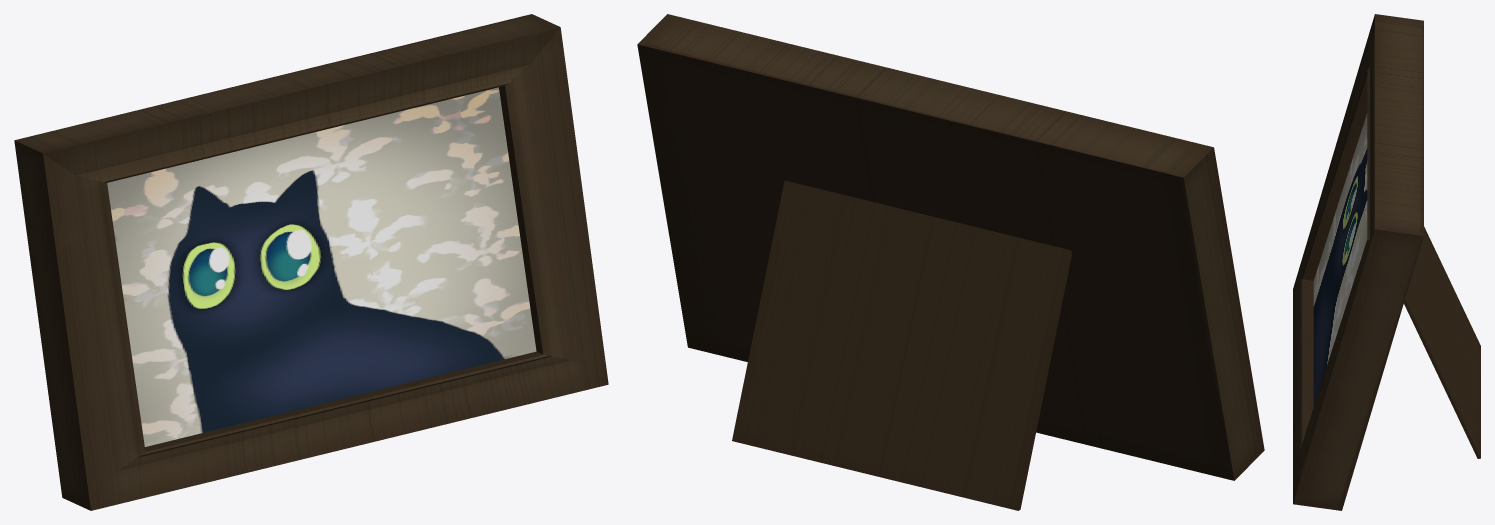
The model's file is Pictureframe2.fbx.
The picture shows the model from 3 angles, left to right: view 1: azimuth 30°, elevation 25°; view 2: azimuth 150°, elevation 25°; view 3: azimuth 270°, elevation 25°; orthographic projection. The views are drawn at different scales.
Parts seen in each view (by area): view 1: Plane; view 2: Plane; view 3: Plane.
Boxes of the visible parts, x1,y1,x2,y2 form: Plane: [14, 14, 608, 510]; Plane: [637, 14, 1264, 510]; Plane: [1293, 14, 1480, 510].
Bounding box in the file's own units: 217 × 132 × 80.1.
